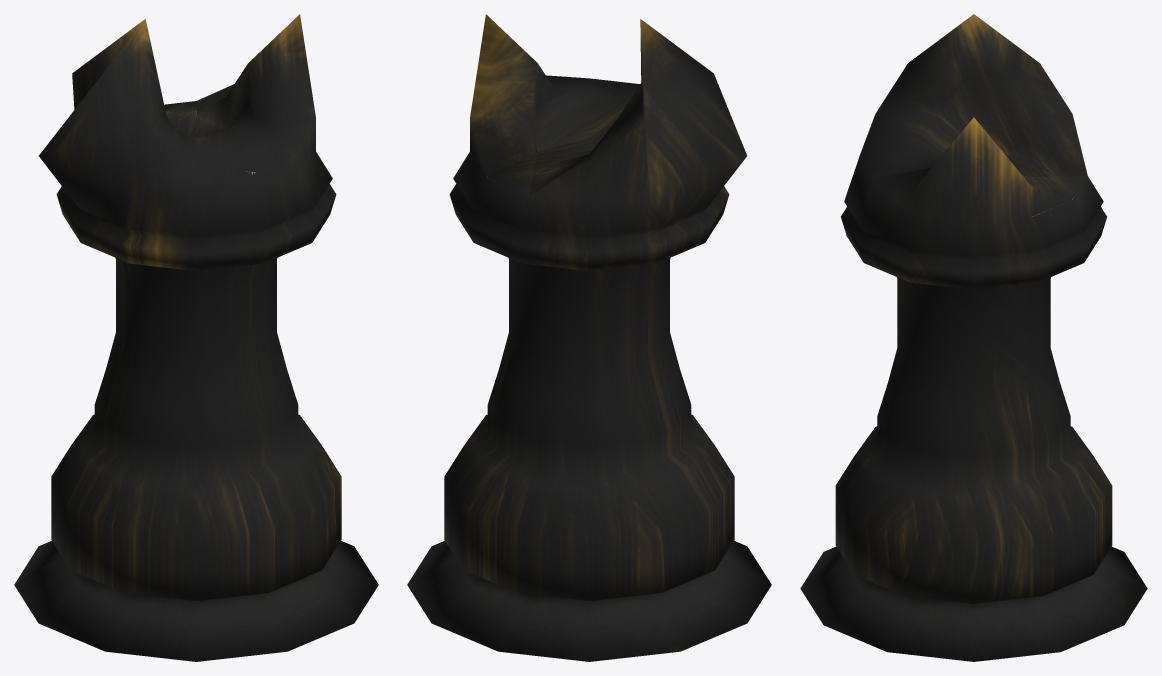
Rendered from Black_Bishop.fbx.
3 views of the same model, side by side, from view 1: azimuth 30°, elevation 25°; view 2: azimuth 150°, elevation 25°; view 3: azimuth 270°, elevation 25° (orthographic). The views are drawn at different scales.
Visible parts, largest first — view 1: Black_Bishop:Bishop_Piece:cylinder1; view 2: Black_Bishop:Bishop_Piece:cylinder1; view 3: Black_Bishop:Bishop_Piece:cylinder1.
Boxes of the visible parts, <box> form: Black_Bishop:Bishop_Piece:cylinder1: <box>14,14,378,661</box>; Black_Bishop:Bishop_Piece:cylinder1: <box>407,14,771,661</box>; Black_Bishop:Bishop_Piece:cylinder1: <box>800,14,1147,661</box>.
Bounding box in the file's own units: 3.05 × 5.34 × 3.05.
1 material, 1 textured.
